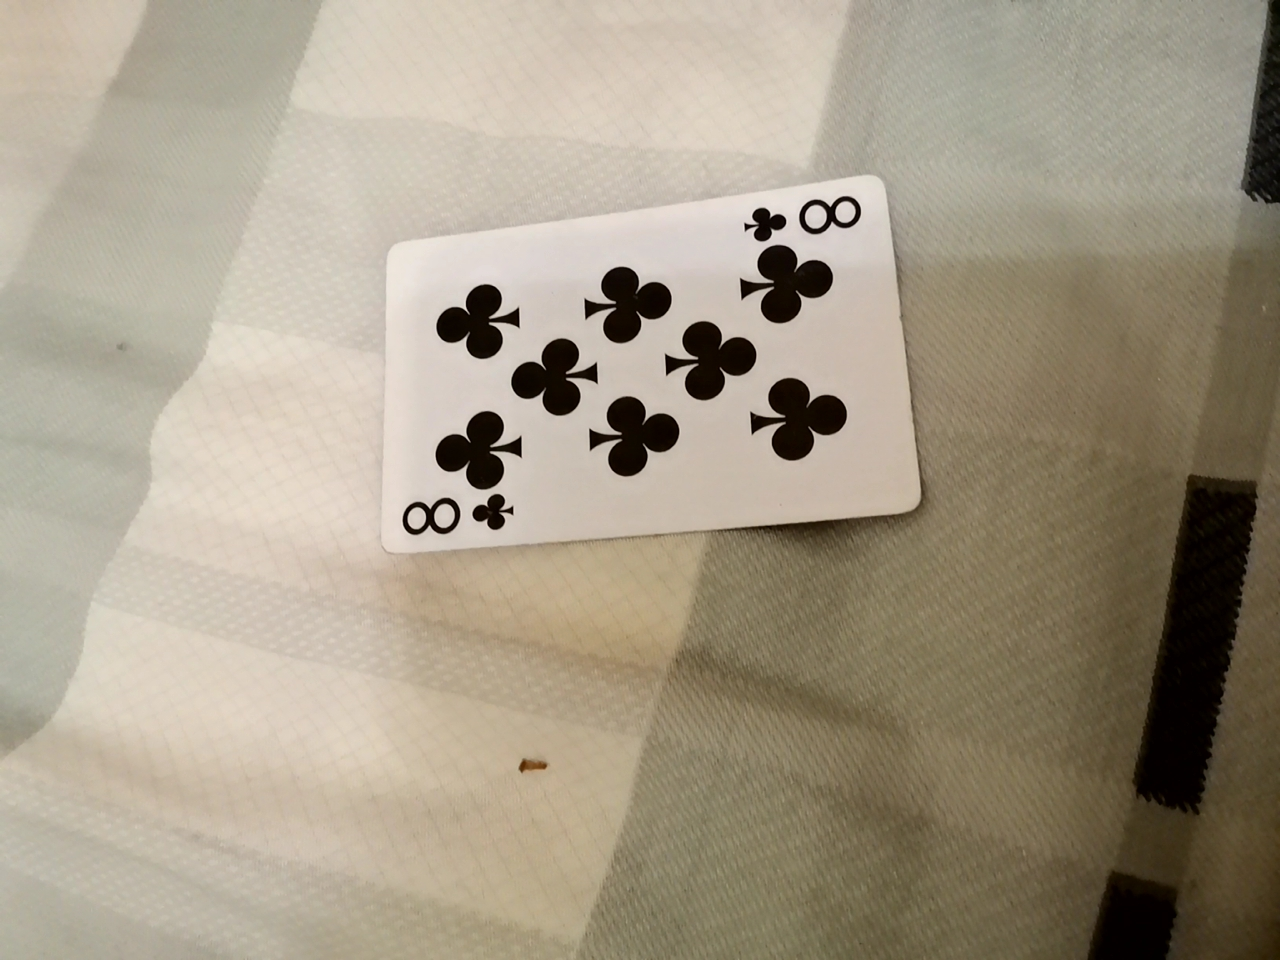mh 8: (350, 170, 923, 543)
